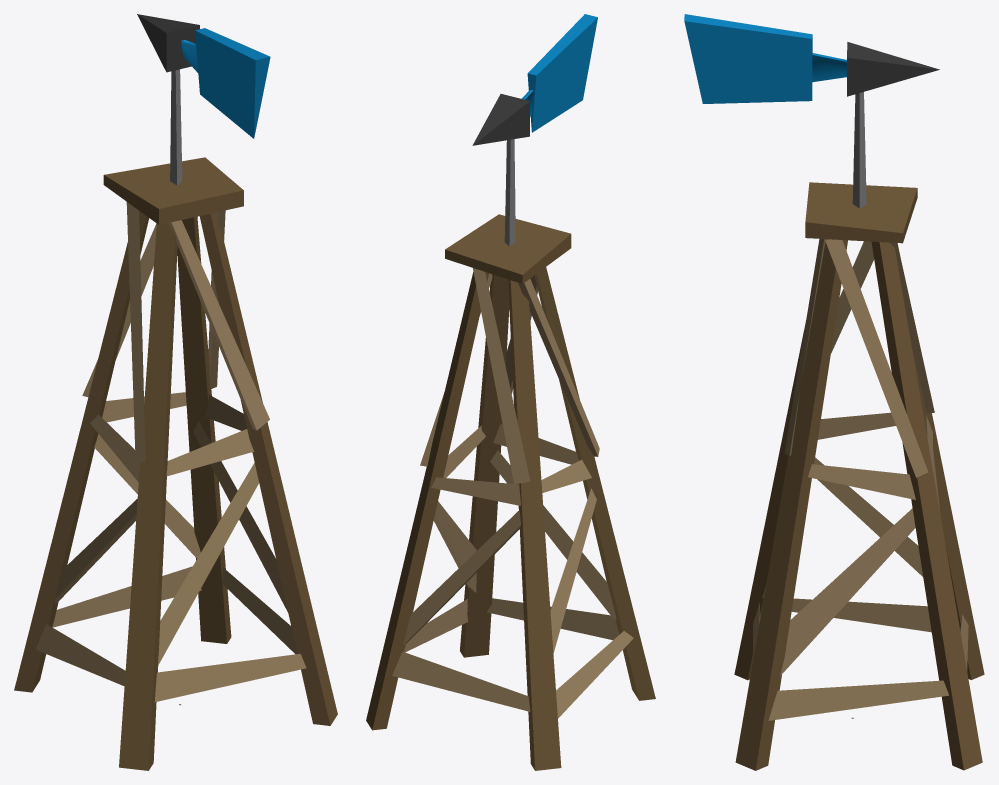
File: model_polytope_windmill.fbx
3 renders of one model, left to right at view 1: azimuth 30°, elevation 25°; view 2: azimuth 150°, elevation 25°; view 3: azimuth 270°, elevation 25°, orthographic. The views are drawn at different scales.
Parts seen in each view (by area): view 1: model_polytope_windmill, model_polytope_windmill_back; view 2: model_polytope_windmill, model_polytope_windmill_back; view 3: model_polytope_windmill, model_polytope_windmill_back.
Boxes of the visible parts, x1,y1,x2,y2 form: model_polytope_windmill: (14, 69, 337, 770); model_polytope_windmill_back: (137, 14, 270, 138); model_polytope_windmill: (366, 139, 655, 770); model_polytope_windmill_back: (472, 14, 597, 145); model_polytope_windmill: (734, 92, 984, 770); model_polytope_windmill_back: (684, 14, 939, 103).
Bounding box in the file's own units: 346 × 1071 × 417.
